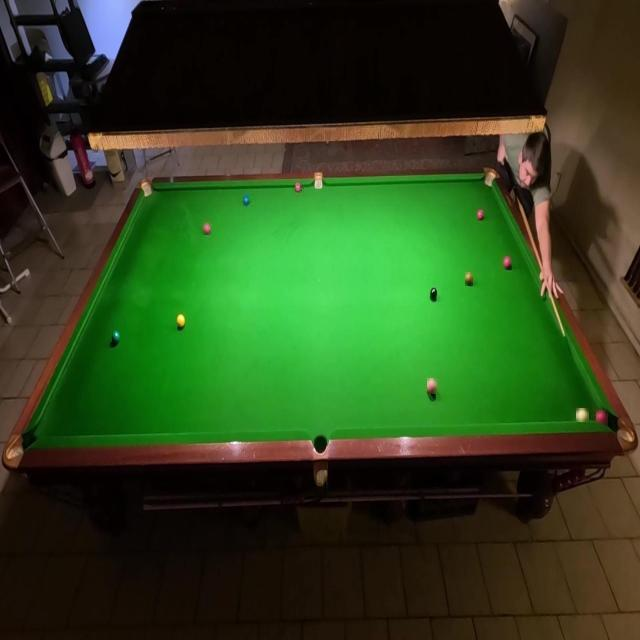Ball: (596, 410, 608, 426), (576, 408, 589, 422), (428, 378, 438, 394), (502, 256, 512, 270), (111, 330, 121, 344), (176, 314, 186, 328), (430, 287, 438, 301), (466, 272, 474, 286), (478, 208, 486, 222), (203, 222, 211, 235), (244, 195, 252, 207), (296, 182, 302, 192)
